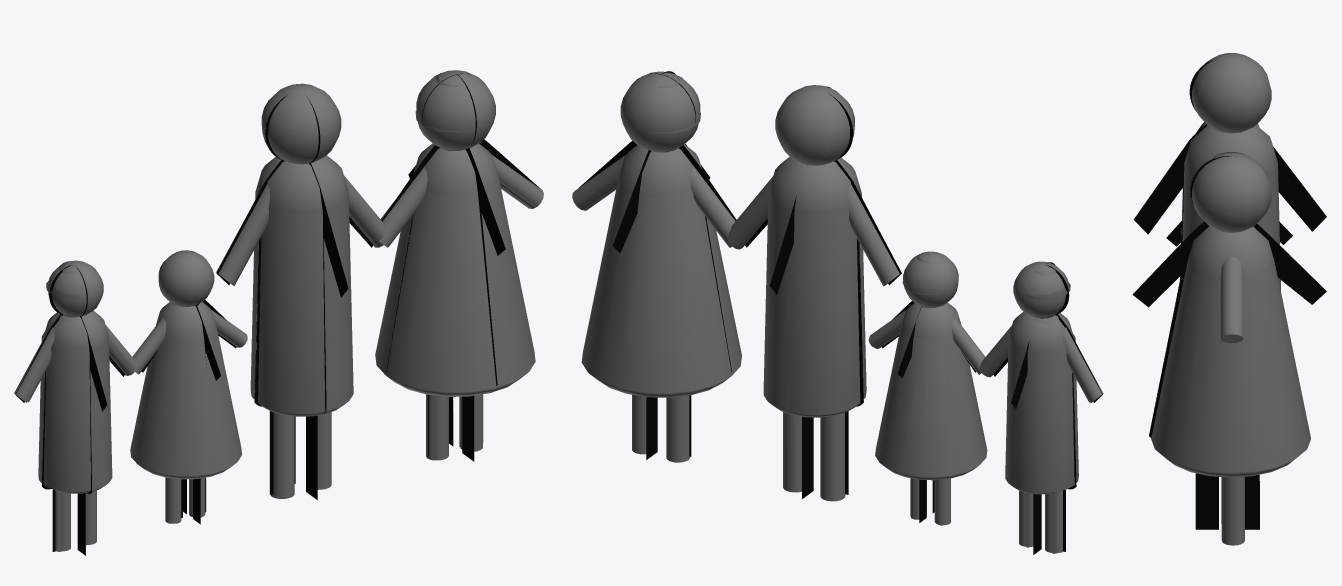
Rendered from P_family.fbx.
3 renders of one model, left to right at view 1: azimuth 30°, elevation 25°; view 2: azimuth 150°, elevation 25°; view 3: azimuth 270°, elevation 25°, orthographic.
Parts seen in each view (by area): view 1: mp_couple1, hp_couple1, hp_children, mp_children, bb_couple, bb_children; view 2: mp_couple1, hp_couple1, mp_children, hp_children, bb_couple, bb_children; view 3: hp_couple1, bb_couple, bb_children.
Part boxes in pixels (left/top/right/bottom): mp_couple1: left=216, top=73, right=536, bottom=498; hp_couple1: left=231, top=70, right=543, bottom=498; hp_children: left=25, top=250, right=247, bottom=551; mp_children: left=14, top=250, right=247, bottom=551; bb_couple: left=216, top=73, right=541, bottom=499; bb_children: left=15, top=264, right=236, bottom=555; mp_couple1: left=575, top=74, right=899, bottom=500; hp_couple1: left=572, top=71, right=884, bottom=501; mp_children: left=868, top=251, right=1103, bottom=553; hp_children: left=869, top=251, right=1090, bottom=552; bb_couple: left=579, top=71, right=901, bottom=498; bb_children: left=882, top=262, right=1102, bottom=554; hp_couple1: left=1151, top=53, right=1310, bottom=545; bb_couple: left=1132, top=58, right=1326, bottom=529; bb_children: left=1166, top=122, right=1292, bottom=246.
Size of the model in its own units: 221 by 161 by 71.
